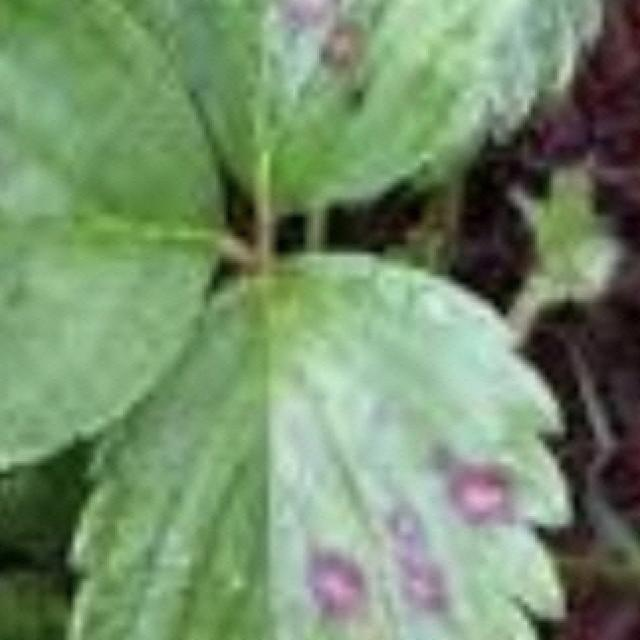Leaf Spot: (65, 249, 581, 640), (118, 0, 605, 223)
